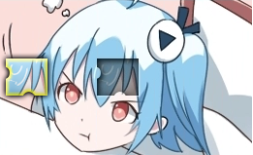gap: (97, 58, 138, 97)
